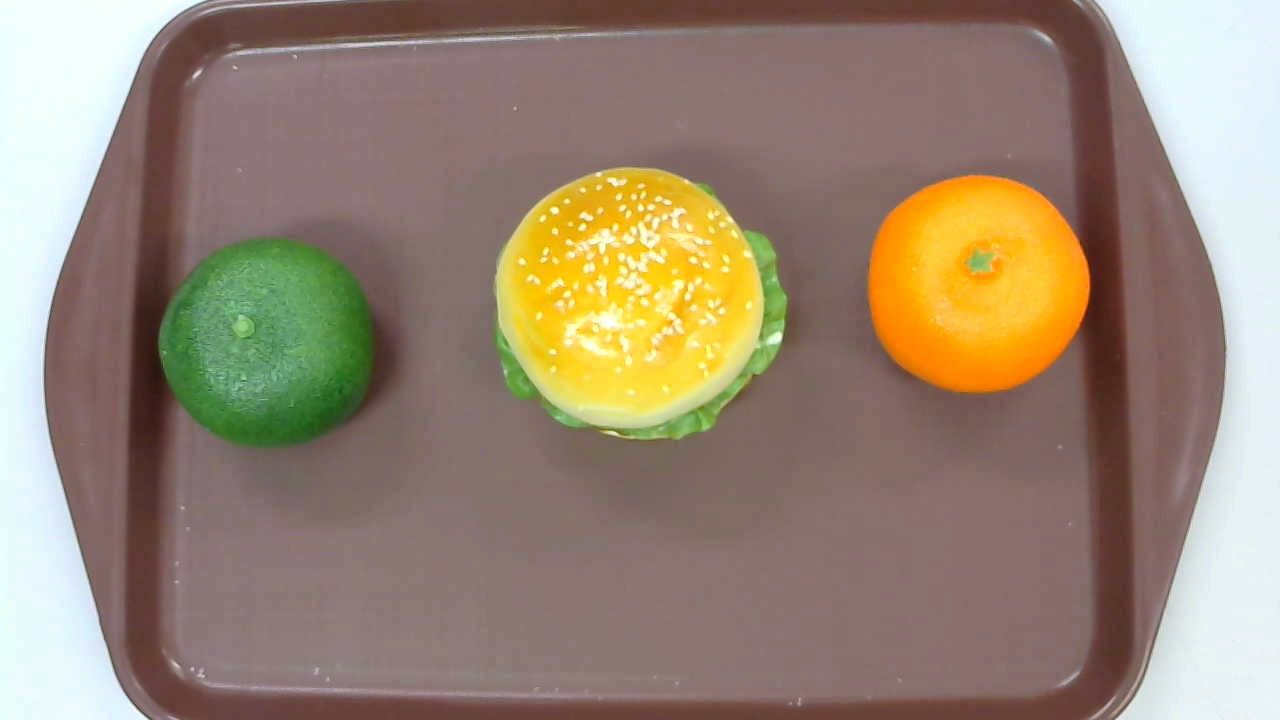green orange: (156, 237, 375, 449)
hamburger: (491, 168, 790, 441)
orange: (866, 174, 1090, 393)
